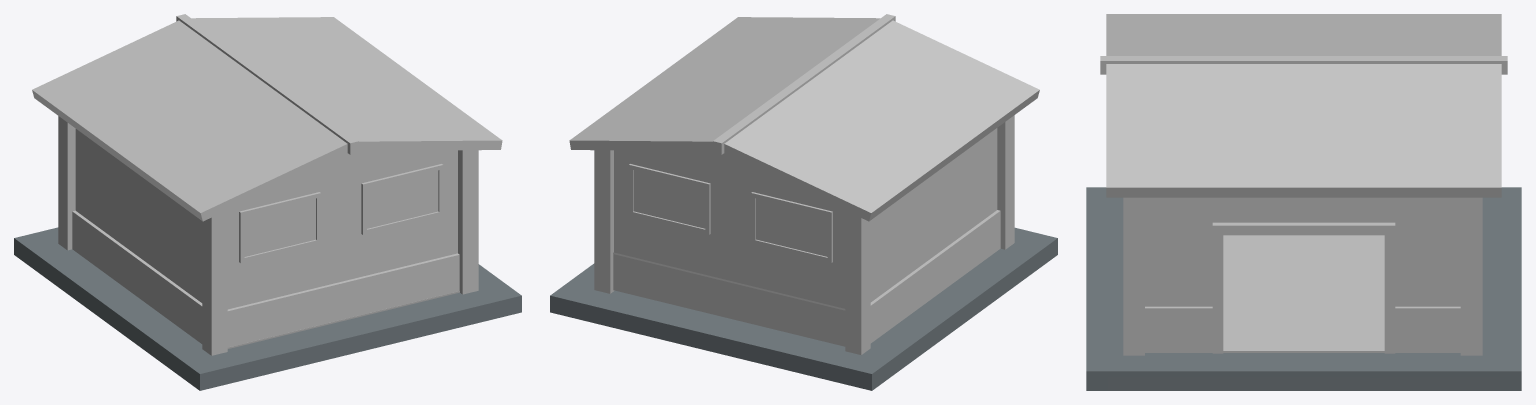
File: interior_garage_1.obj
The picture shows the model from 3 angles, left to right: view 1: azimuth 30°, elevation 25°; view 2: azimuth 150°, elevation 25°; view 3: azimuth 270°, elevation 25°; orthographic projection. The views are drawn at different scales.
Visible parts, largest first — view 1: Cube.003; view 2: Cube.003; view 3: Cube.003.
Part boxes in pixels (x1,y1,x2,y2): Cube.003: [14, 14, 521, 390]; Cube.003: [550, 14, 1057, 390]; Cube.003: [1086, 14, 1521, 390].
Size of the model in its own units: 2 by 1.22 by 2.
